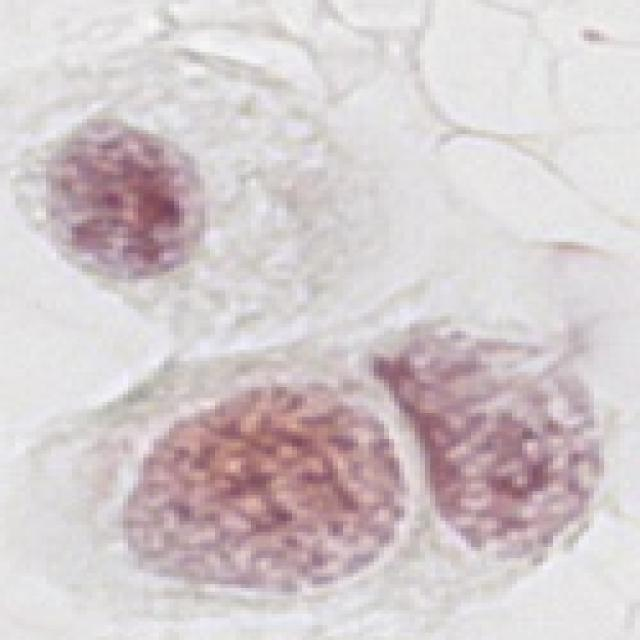nucleus: (43, 108, 205, 286)
